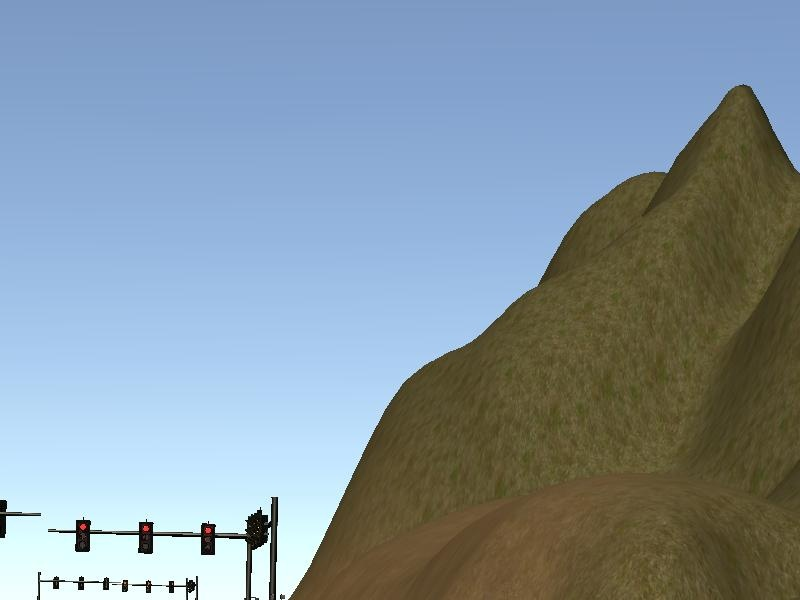traffic_light_red: (66, 519, 242, 557)
